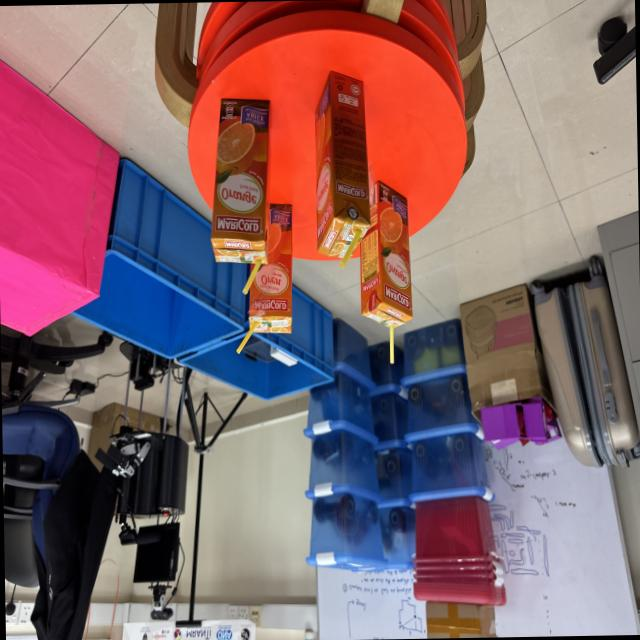drink_carton: (208, 85, 280, 298), (308, 61, 374, 278), (353, 172, 418, 371), (230, 198, 304, 362)
